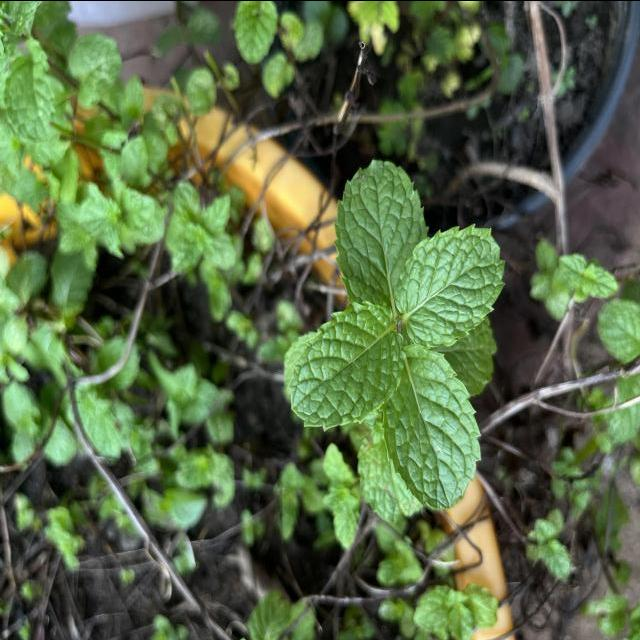Mentha spicata: (376, 342, 484, 509), (286, 297, 408, 433), (392, 220, 508, 350), (332, 156, 430, 308)
